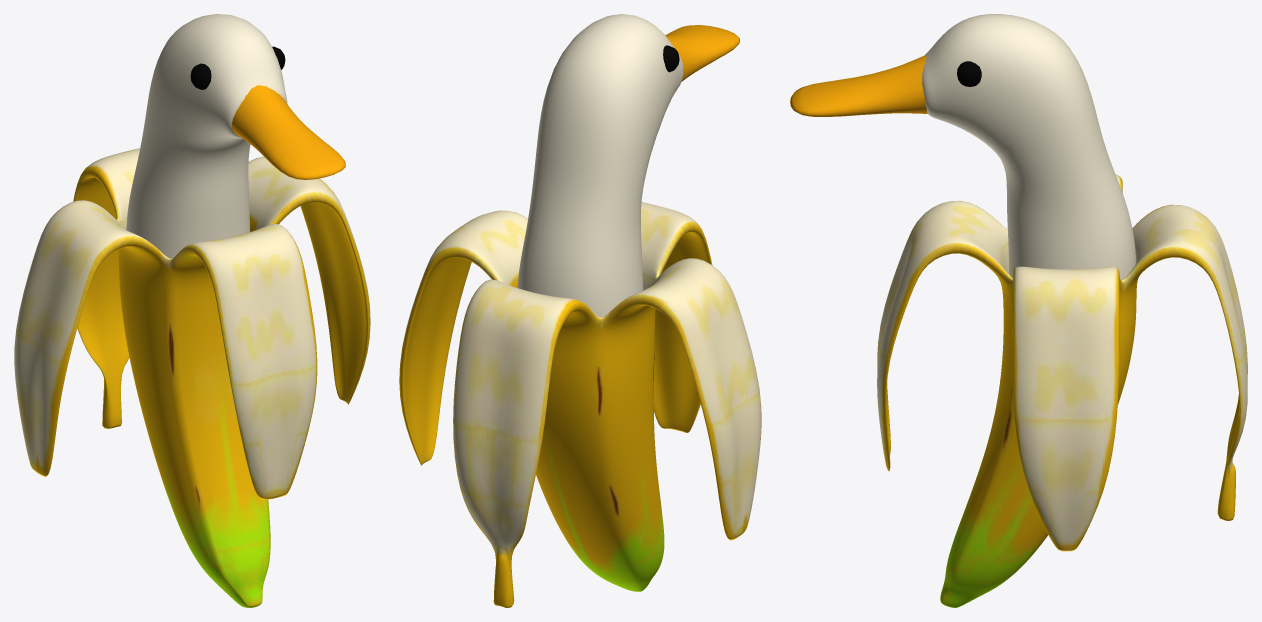
File: banana_duck.glb
3 views of the same model, side by side, from view 1: azimuth 30°, elevation 25°; view 2: azimuth 150°, elevation 25°; view 3: azimuth 270°, elevation 25° (orthographic). The views are drawn at different scales.
Parts seen in each view (by area): view 1: banana peel_0; view 2: banana peel_0; view 3: banana peel_0.
Part boxes in pixels (x1,y1,x2,y2): banana peel_0: [14, 14, 370, 607]; banana peel_0: [399, 14, 761, 607]; banana peel_0: [790, 14, 1247, 607].
Bounding box in the file's own units: 2.52 × 4.25 × 3.01.
4 materials, 1 textured.
